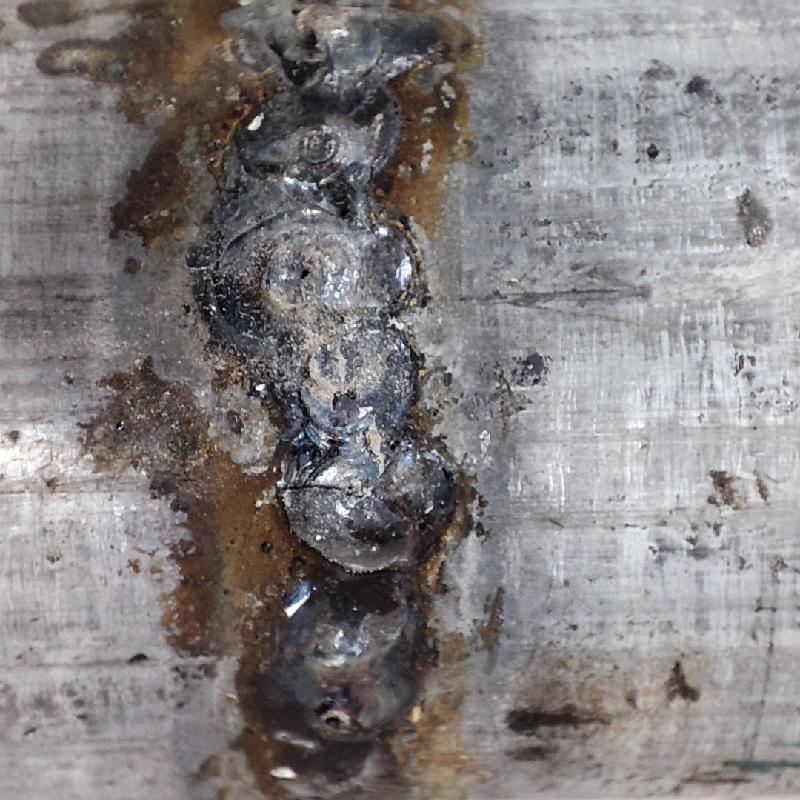Not_fully_soldered: (225, 3, 446, 566)
Surface_pores: (283, 18, 334, 75), (278, 251, 333, 299), (317, 695, 356, 740)
